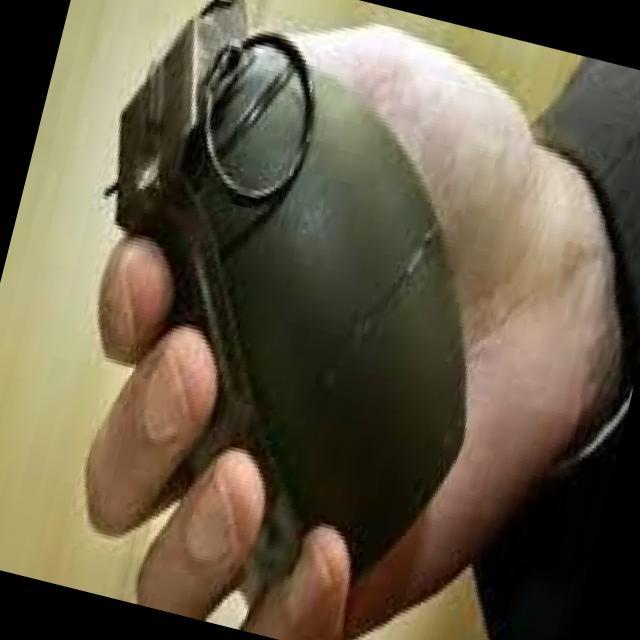grenade: (31, 0, 556, 640)
